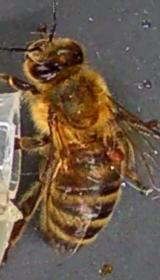varroa_mite: (100, 140, 122, 162)
